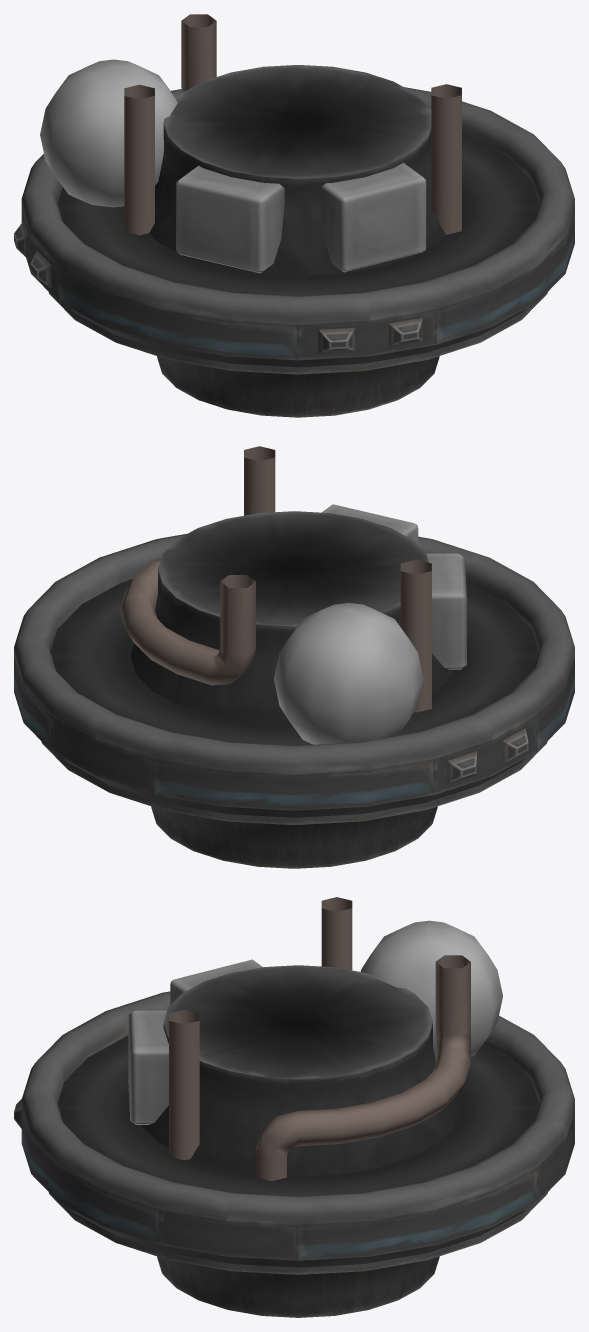
3 renders of one model, top to bottom at view 1: azimuth 30°, elevation 25°; view 2: azimuth 150°, elevation 25°; view 3: azimuth 270°, elevation 25°, orthographic.
Parts seen in each view (by area): view 1: J_2T_Merged_pCylinder255, J_2T_Merged_J2Bits; view 2: J_2T_Merged_pCylinder255, J_2T_Merged_J2Bits; view 3: J_2T_Merged_pCylinder255, J_2T_Merged_J2Bits.
Boxes of the visible parts, x1,y1,x2,y2 form: J_2T_Merged_pCylinder255: [21, 14, 574, 417]; J_2T_Merged_J2Bits: [14, 59, 426, 353]; J_2T_Merged_pCylinder255: [14, 446, 574, 868]; J_2T_Merged_J2Bits: [274, 504, 528, 784]; J_2T_Merged_pCylinder255: [21, 897, 574, 1317]; J_2T_Merged_J2Bits: [14, 920, 502, 1128].
Size of what is drawn, in the model's own units: 1.27 by 0.7382 by 1.27.
